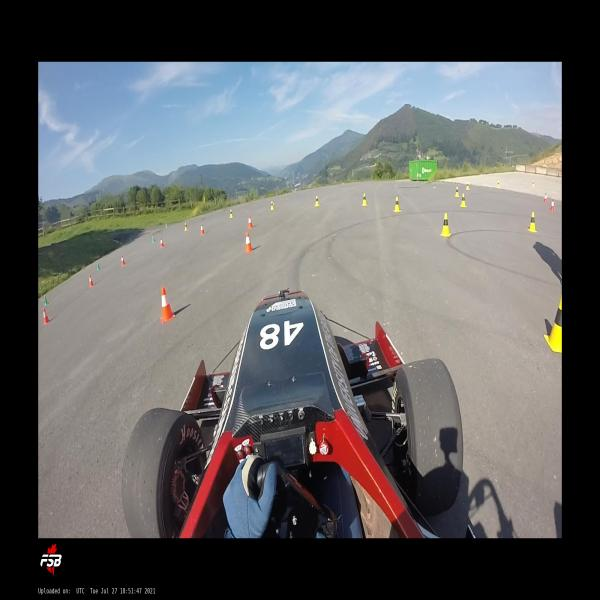orange_cone: (160, 287, 175, 324), (245, 231, 253, 252), (43, 308, 50, 325), (248, 215, 253, 228), (550, 199, 555, 211), (200, 224, 205, 234), (90, 275, 94, 287), (160, 238, 165, 247), (121, 255, 125, 266), (544, 193, 548, 203)
unknown_cone: (45, 296, 48, 306), (97, 263, 100, 270), (153, 237, 155, 243)
yellow_cone: (544, 295, 562, 353), (440, 212, 451, 236), (527, 212, 537, 232), (393, 196, 401, 212), (460, 193, 466, 207), (362, 193, 368, 206), (314, 196, 320, 206), (455, 186, 459, 196), (184, 222, 188, 231), (466, 182, 470, 190), (271, 201, 274, 210), (230, 209, 233, 218), (497, 181, 500, 188), (532, 180, 534, 186)
